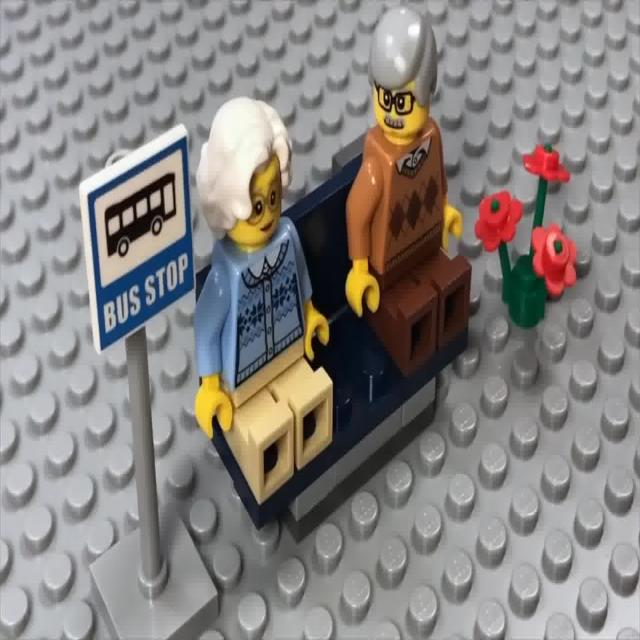4: (338, 140, 383, 334), (192, 263, 238, 447), (284, 214, 336, 371), (437, 190, 464, 260)
hand: (194, 83, 356, 531), (342, 14, 482, 385)
